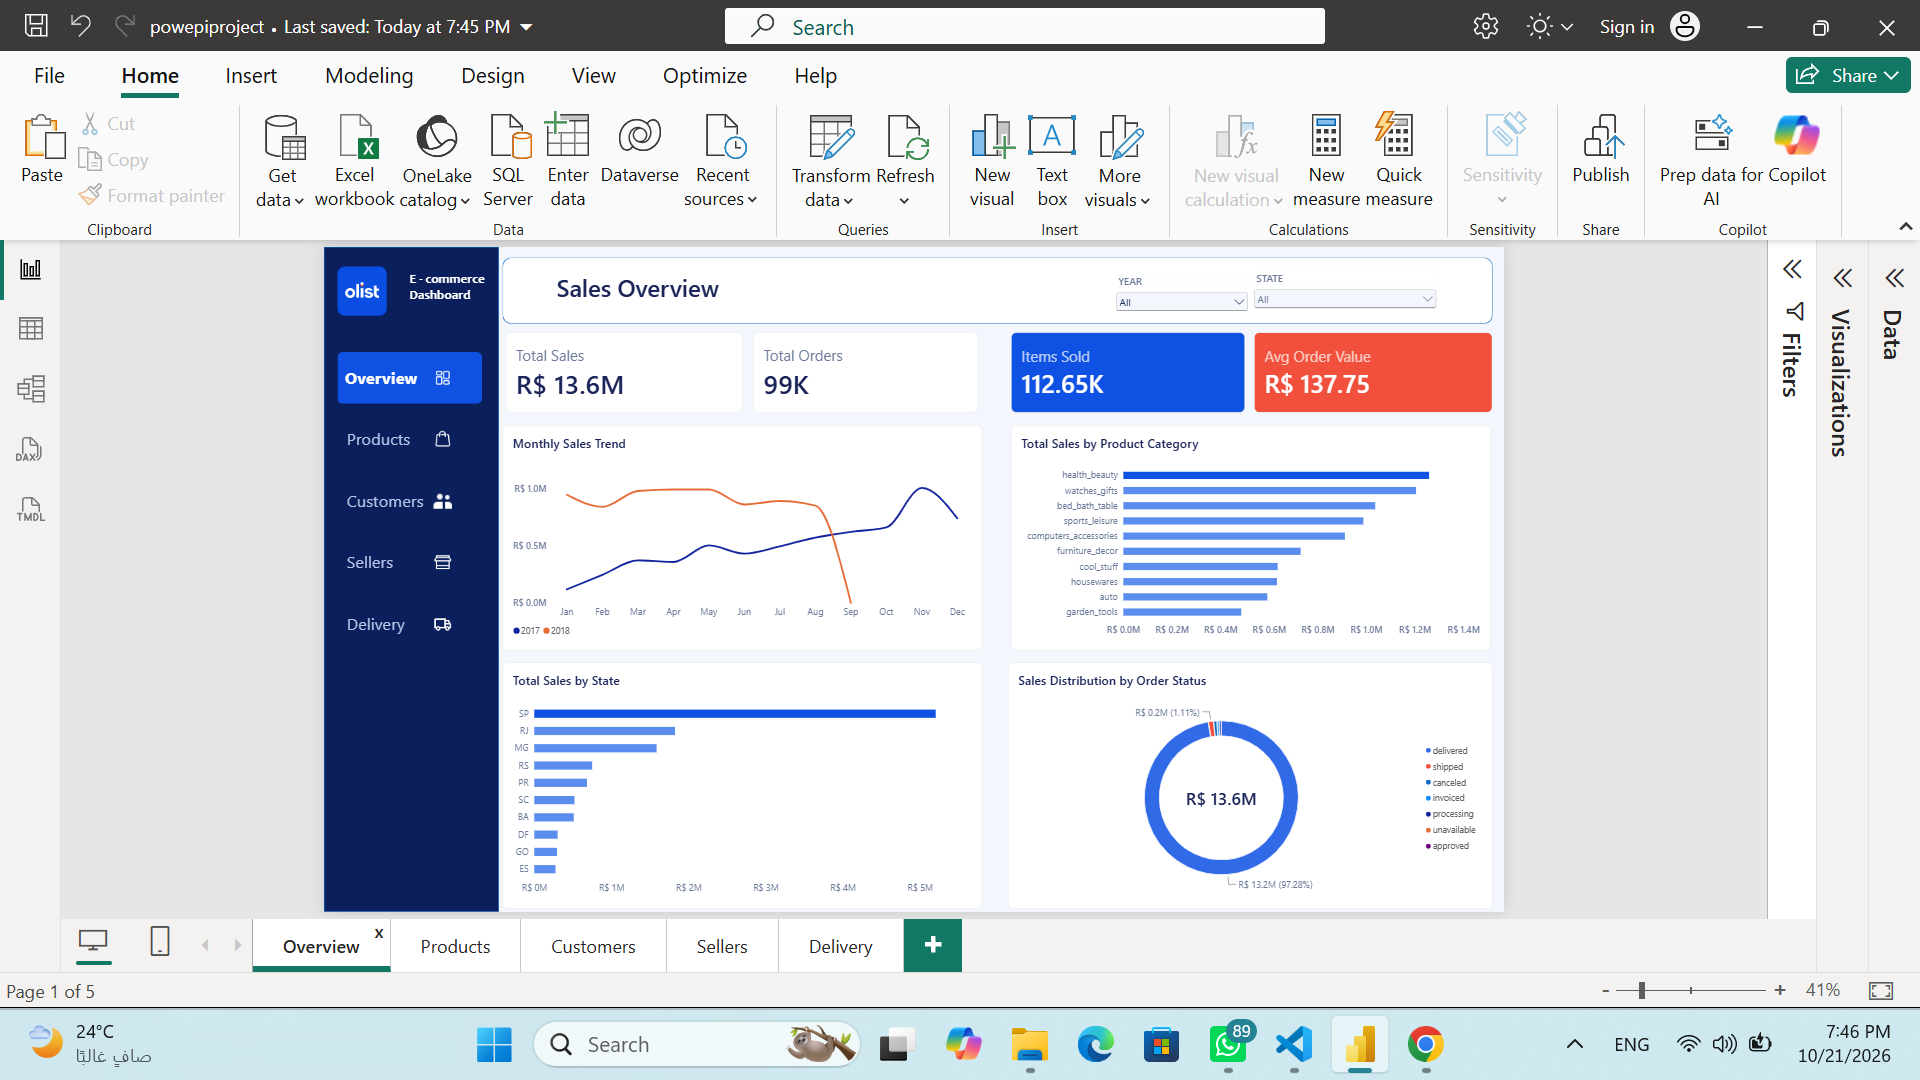

What the dashboard file says about the page in this screenshot:
{"tool":"powerbi","page":{"name":"Overview","canvas":[1920,1080],"ordinal":0},"visuals":[{"type":"shape","box":[0,0,284,1080.8],"z":0},{"type":"pageNavigator","box":[22.7,170,235.3,484.7],"z":1000},{"type":"image","box":[22.3,31.8,80,80],"z":2000},{"type":"textbox","title":"E - commerce Dashboard","box":[139.8,39.7,176.6,62],"z":3000},{"type":"shape","box":[289.1,17,1610.1,107.7],"z":4000},{"type":"textbox","title":"Sales Overview","box":[377,39.7,314.6,59.5],"z":5000},{"type":"slicer","fields":{"Values":["DIM_DATE.YEAR"]},"box":[1284,44,224,60],"z":6000},{"type":"slicer","fields":{"Values":["DIM_CUSTOMER.STATE"]},"box":[1508,40,306.1,79.4],"z":7000},{"type":"cardVisual","fields":{"Data":["_Measures.Total Orders"]},"box":[692.5,138,370,130],"z":8000},{"type":"cardVisual","fields":{"Data":["_Measures.Items Sold"]},"box":[1112.5,138,385,130],"z":9000},{"type":"cardVisual","fields":{"Data":["_Measures.Avg Order Value"]},"box":[1507.5,138,392.5,130],"z":10000},{"type":"cardVisual","fields":{"Data":["_Measures.Total Sales"]},"box":[289.1,138.9,390,130],"z":11000},{"type":"lineChart","title":"Monthly Sales Trend","fields":{"Category":["DIM_DATE.MONTH_NAME"],"Series":["DIM_DATE.YEAR"],"Y":["_Measures.Total Sales"]},"box":[290,290,780,365],"z":12000},{"type":"clusteredBarChart","title":"Total Sales by Product Category","fields":{"Category":["DIM_PRODUCT.CATEGORY_EN"],"Y":["_Measures.Total Sales"]},"box":[1117.5,290,780,365],"z":13000},{"type":"clusteredBarChart","title":"Total Sales by State","fields":{"Category":["DIM_CUSTOMER.STATE"],"Y":["_Measures.Total Sales"]},"box":[290,675,780,400],"z":14000},{"type":"donutChart","title":"Sales Distribution by Order Status","fields":{"Category":["DIM_ORDER.ORDER_STATUS"],"Y":["_Measures.Total Sales"]},"box":[1112.5,675,787.5,400],"z":15000},{"type":"textbox","box":[100,204,530,64],"z":16000},{"type":"image","box":[170,198,44,30],"z":17000},{"type":"image","box":[170,298,44,30],"z":18000},{"type":"image","box":[170,398,44,30],"z":19000},{"type":"image","box":[170,498,44,30],"z":20000},{"type":"image","box":[170,598,44,30],"z":21000}]}

Visuals, with their boxes on the page's 1920x1080 design canvas (x1, y1, x2, y2). These are canvas units, not pixel positions in the 1920x1080 screenshot, which may show the page scaled, cropped or inside an application window:
shape: (x1=0, y1=0, x2=284, y2=1081)
pageNavigator: (x1=23, y1=170, x2=258, y2=655)
image: (x1=22, y1=32, x2=102, y2=112)
"E - commerce Dashboard" textbox: (x1=140, y1=40, x2=316, y2=102)
shape: (x1=289, y1=17, x2=1899, y2=125)
"Sales Overview" textbox: (x1=377, y1=40, x2=692, y2=99)
slicer - DIM_DATE.YEAR: (x1=1284, y1=44, x2=1508, y2=104)
slicer - DIM_CUSTOMER.STATE: (x1=1508, y1=40, x2=1814, y2=119)
cardVisual - _Measures.Total Orders: (x1=692, y1=138, x2=1062, y2=268)
cardVisual - _Measures.Items Sold: (x1=1112, y1=138, x2=1498, y2=268)
cardVisual - _Measures.Avg Order Value: (x1=1508, y1=138, x2=1900, y2=268)
cardVisual - _Measures.Total Sales: (x1=289, y1=139, x2=679, y2=269)
"Monthly Sales Trend" lineChart: (x1=290, y1=290, x2=1070, y2=655)
"Total Sales by Product Category" clusteredBarChart: (x1=1118, y1=290, x2=1898, y2=655)
"Total Sales by State" clusteredBarChart: (x1=290, y1=675, x2=1070, y2=1075)
"Sales Distribution by Order Status" donutChart: (x1=1112, y1=675, x2=1900, y2=1075)
textbox: (x1=100, y1=204, x2=630, y2=268)
image: (x1=170, y1=198, x2=214, y2=228)
image: (x1=170, y1=298, x2=214, y2=328)
image: (x1=170, y1=398, x2=214, y2=428)
image: (x1=170, y1=498, x2=214, y2=528)
image: (x1=170, y1=598, x2=214, y2=628)
